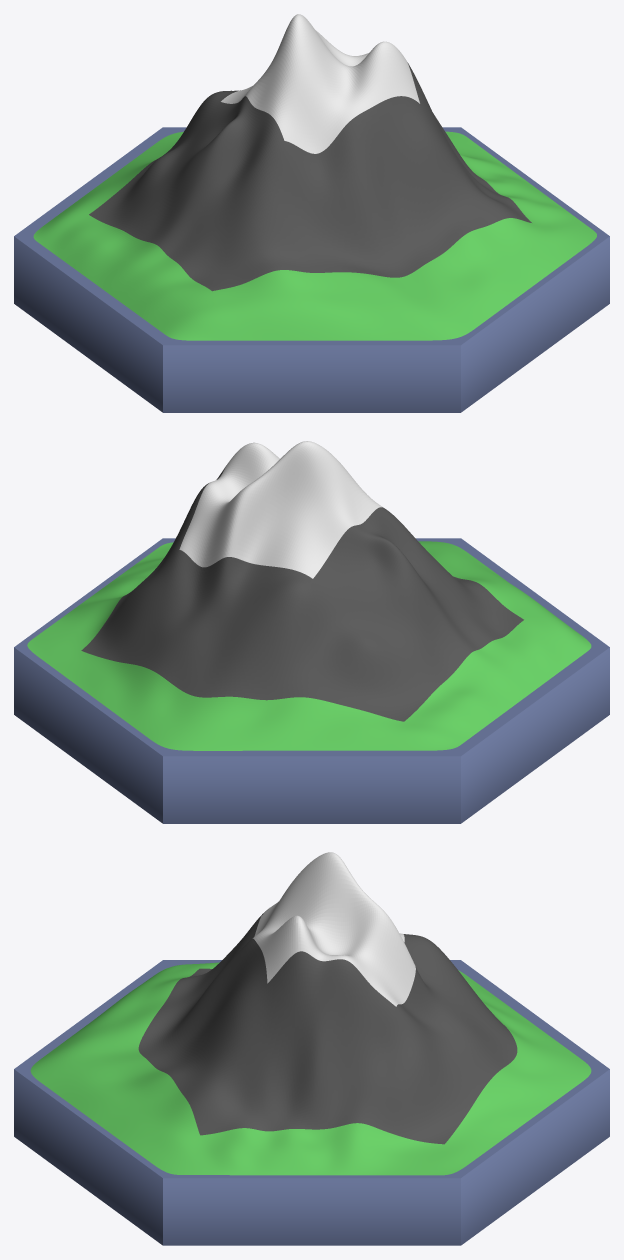
File: Mountains_Hexagon.fbx
The picture shows the model from 3 angles, top to bottom: view 1: azimuth 30°, elevation 25°; view 2: azimuth 150°, elevation 25°; view 3: azimuth 270°, elevation 25°; orthographic projection.
Parts seen in each view (by area): view 1: Plane, Hexagon; view 2: Plane, Hexagon; view 3: Plane, Hexagon.
Boxes of the visible parts, bbox=[...] form: Plane: bbox=[33, 14, 596, 340]; Hexagon: bbox=[14, 127, 609, 412]; Plane: bbox=[27, 441, 591, 750]; Hexagon: bbox=[14, 538, 609, 823]; Plane: bbox=[30, 852, 591, 1175]; Hexagon: bbox=[14, 960, 609, 1245].
Bounding box in the file's own units: 346 × 209 × 400.
